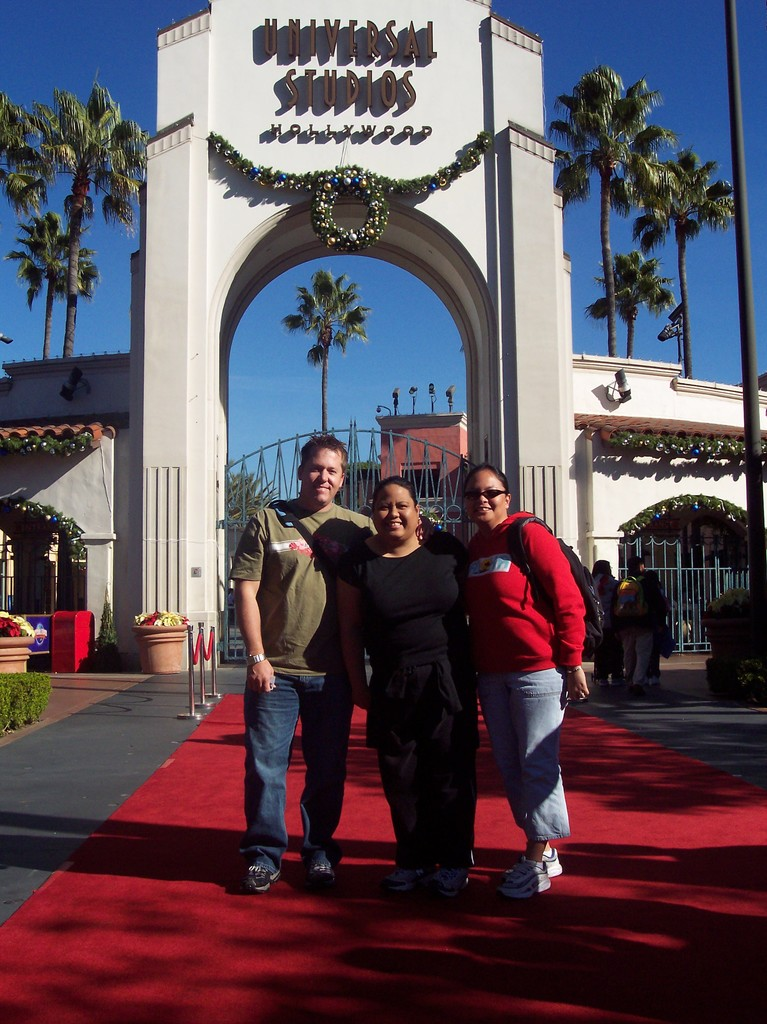Footwear: (499, 835, 577, 901), (246, 865, 287, 898), (311, 856, 343, 889), (537, 844, 561, 874)
